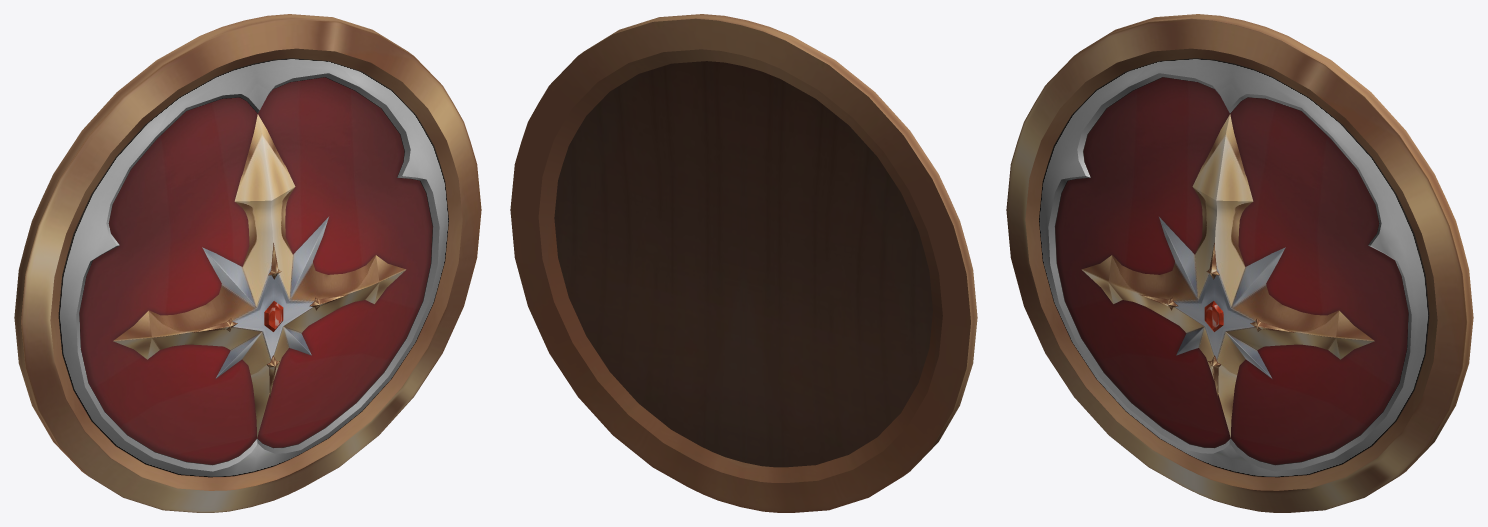
The model's file is Round_ShieldModel.gltf.
3 renders of one model, left to right at view 1: azimuth 30°, elevation 25°; view 2: azimuth 150°, elevation 25°; view 3: azimuth 330°, elevation 25°, orthographic.
Parts seen in each view (by area): view 1: Weapon_Round_Shield; view 2: Weapon_Round_Shield; view 3: Weapon_Round_Shield.
Part boxes in pixels (left/top/right/bottom): Weapon_Round_Shield: left=14, top=14, right=481, bottom=512; Weapon_Round_Shield: left=510, top=14, right=977, bottom=512; Weapon_Round_Shield: left=1006, top=14, right=1473, bottom=512.
Bounding box in the file's own units: 58.77 × 58.77 × 7.08.
Materials: 1 (1 with a texture image).
